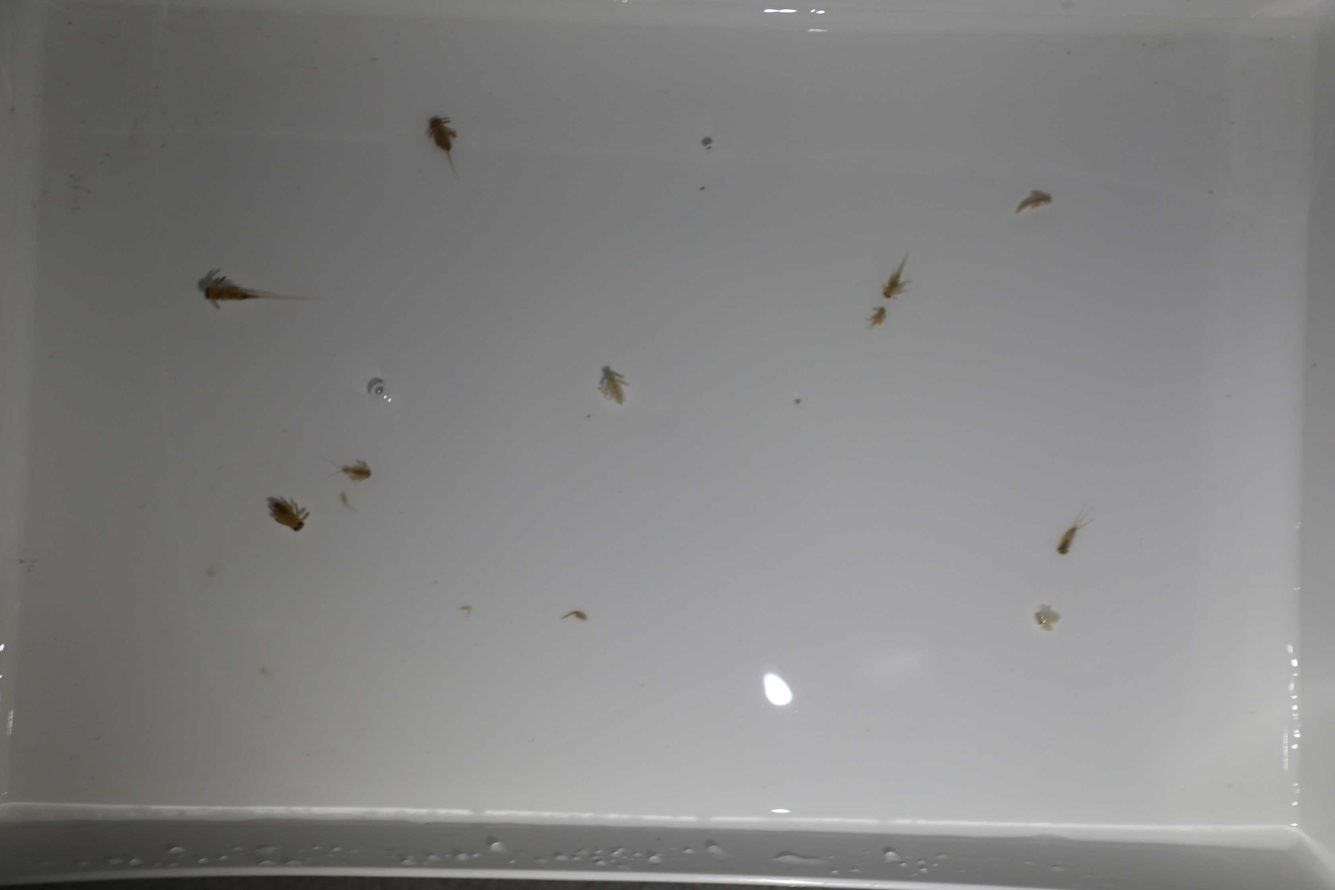Mayfly: (195, 269, 310, 319), (1050, 485, 1103, 566), (414, 109, 474, 180), (266, 490, 315, 535), (878, 251, 921, 297), (599, 368, 636, 414), (1012, 182, 1058, 213), (1024, 606, 1062, 639), (334, 459, 378, 485), (864, 301, 893, 335)
